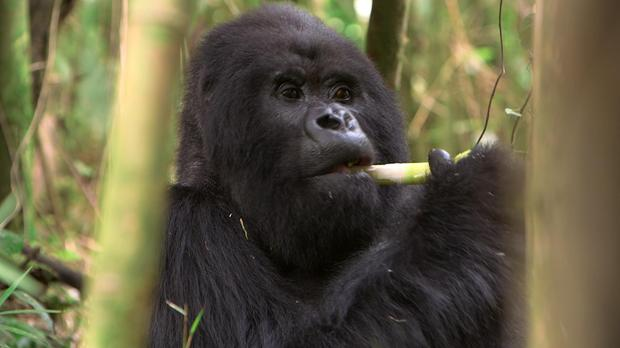Goriila: (185, 14, 533, 332)
